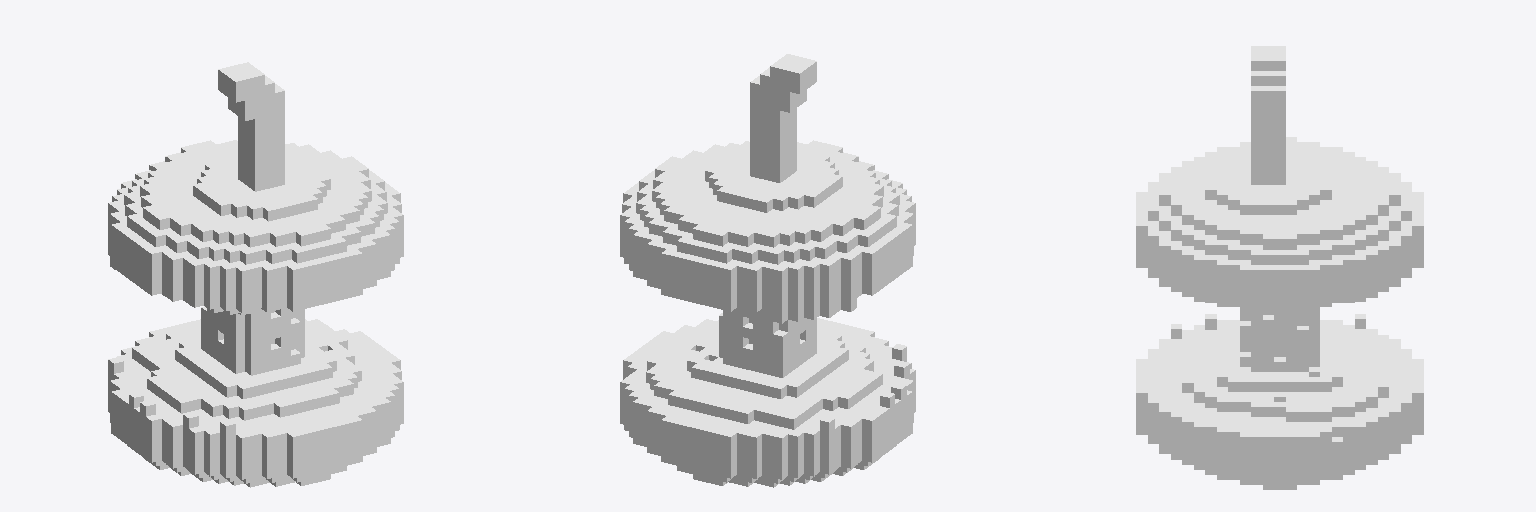
File: EatenApple.obj
3 renders of one model, left to right at view 1: azimuth 30°, elevation 25°; view 2: azimuth 150°, elevation 25°; view 3: azimuth 270°, elevation 25°, orthographic.
Size of the model in its own units: 25 by 37 by 25.